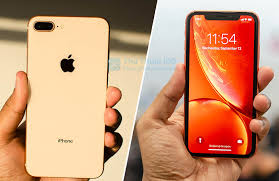iphone: (25, 11, 110, 179), (179, 8, 260, 159)
